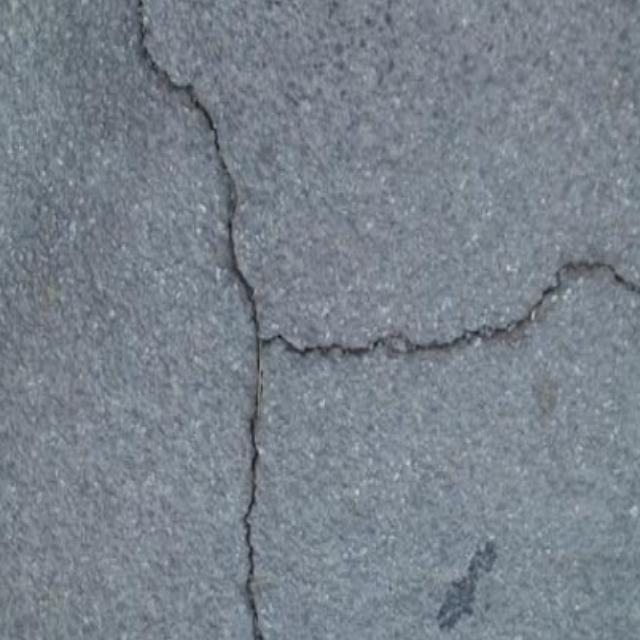GRIETA: (136, 0, 264, 639), (262, 260, 639, 357)
